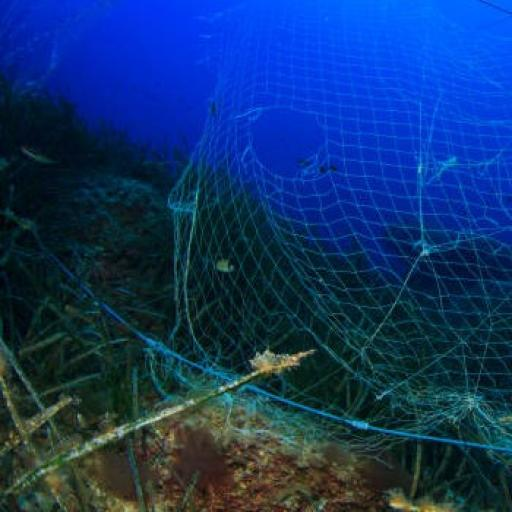net: (163, 0, 512, 456)
